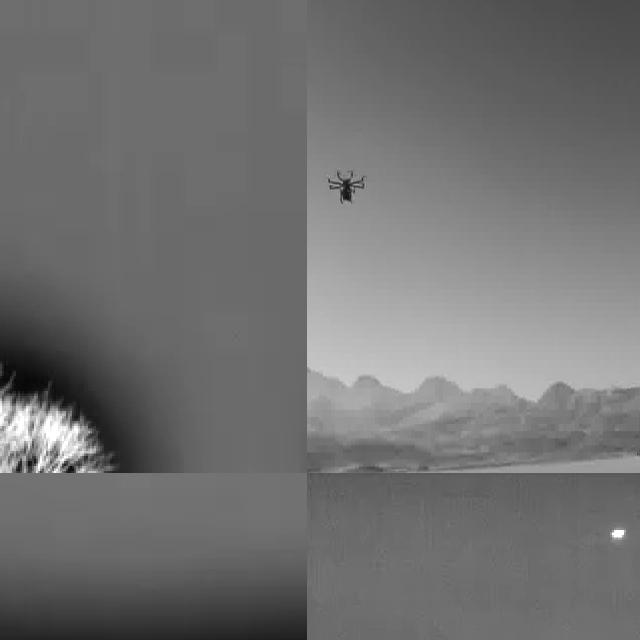1: (607, 525, 631, 545)
drone: (323, 163, 369, 214)
